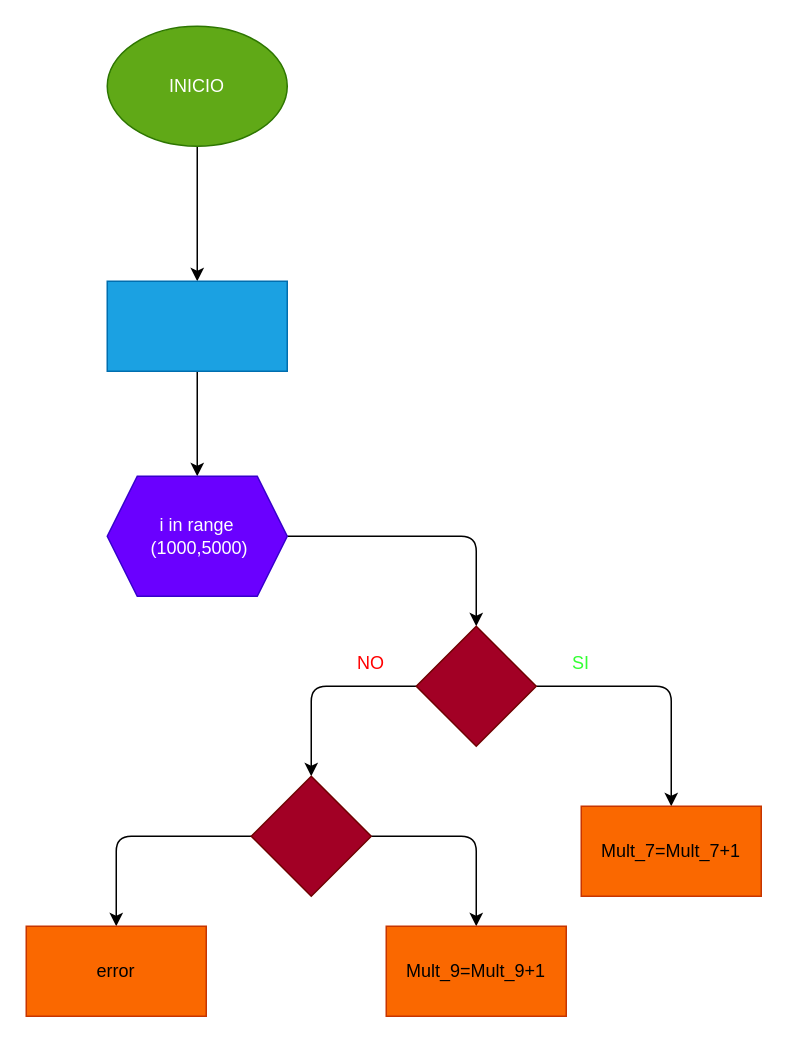
This 788x1043 diagram has some shape labels left out. The shapes that lost their labels are listed below. From the top down, each one's centre as x and y in pixels, then its label:
At pixel 196 325: "Mult_7=0 Mult_9=0".
At pixel 475 685: "i % 7 == 0".
At pixel 310 835: "i % 9 == 0".
